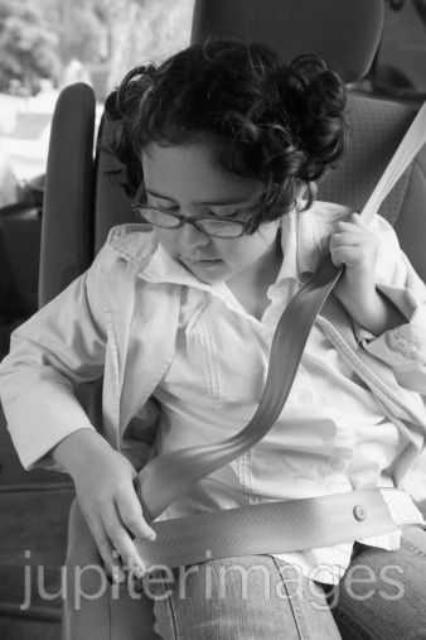SafeDriving: (200, 202, 246, 228)
Seatbelt: (141, 95, 426, 556)
